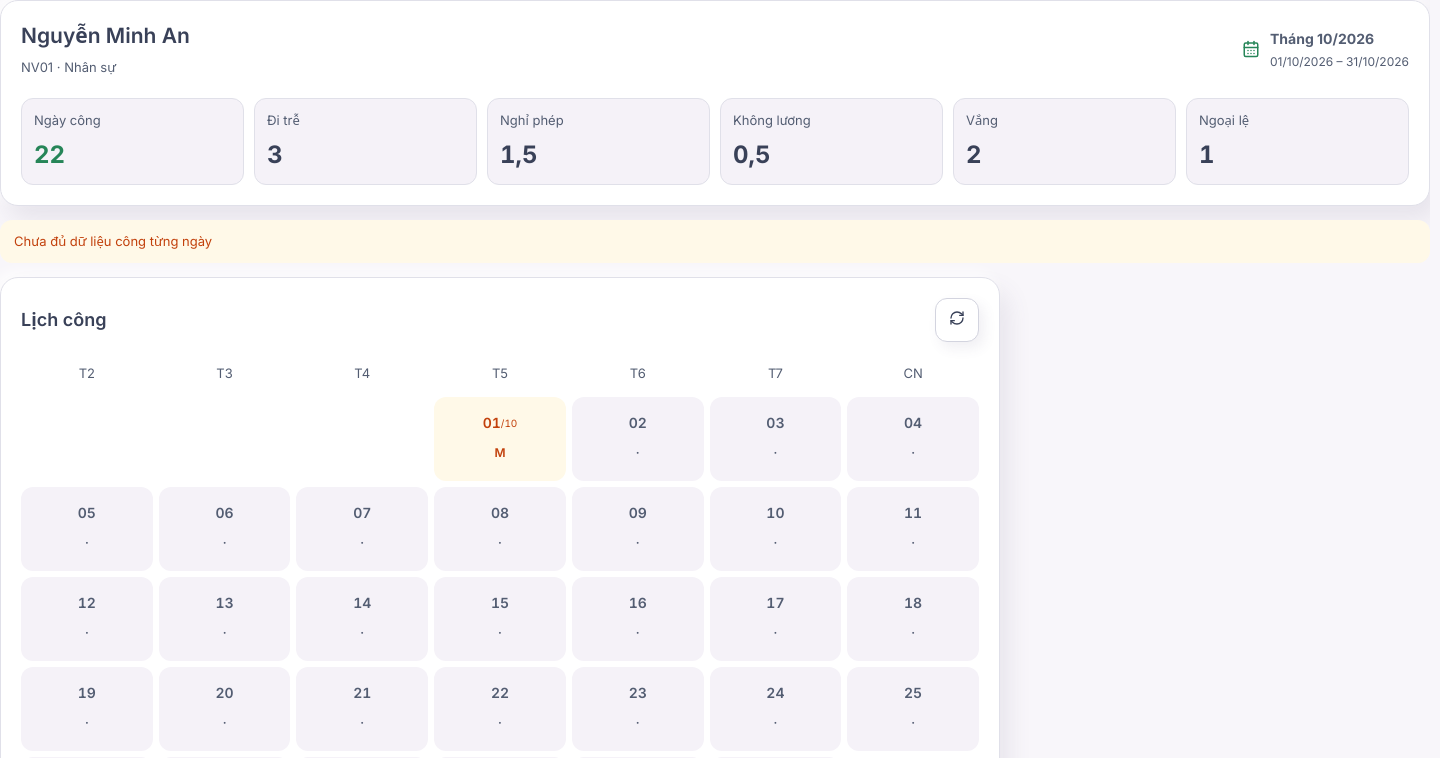
it: individual employee attendance calendar › opens only the selected day with local business time and permitted adjustment
The width and height of the screenshot is (1440, 758).
Click the button named "01/10/2026: Đi muộn" at (500, 439), box [434,397,566,481]
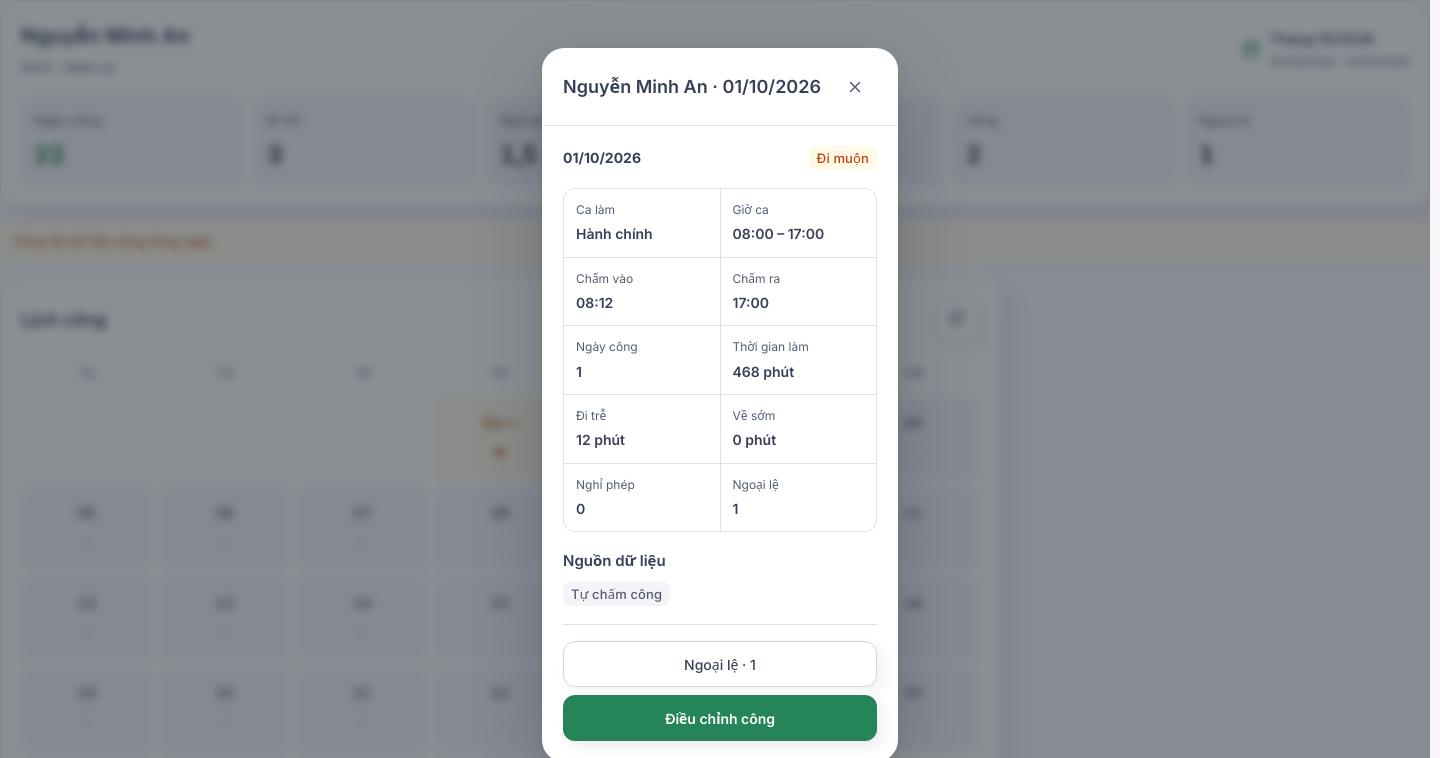
Expected: the text "08:12" is shown, [576,294,613,311]
Expected: the text "17:00" is shown, [732,294,769,311]
Expected: the text "12 phút" is shown, [576,431,625,448]
